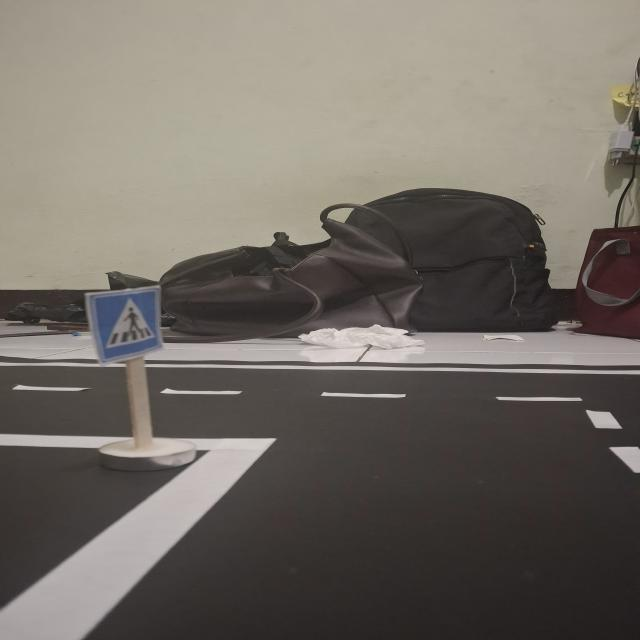Rambu Penyebrangan: (87, 288, 162, 359)
